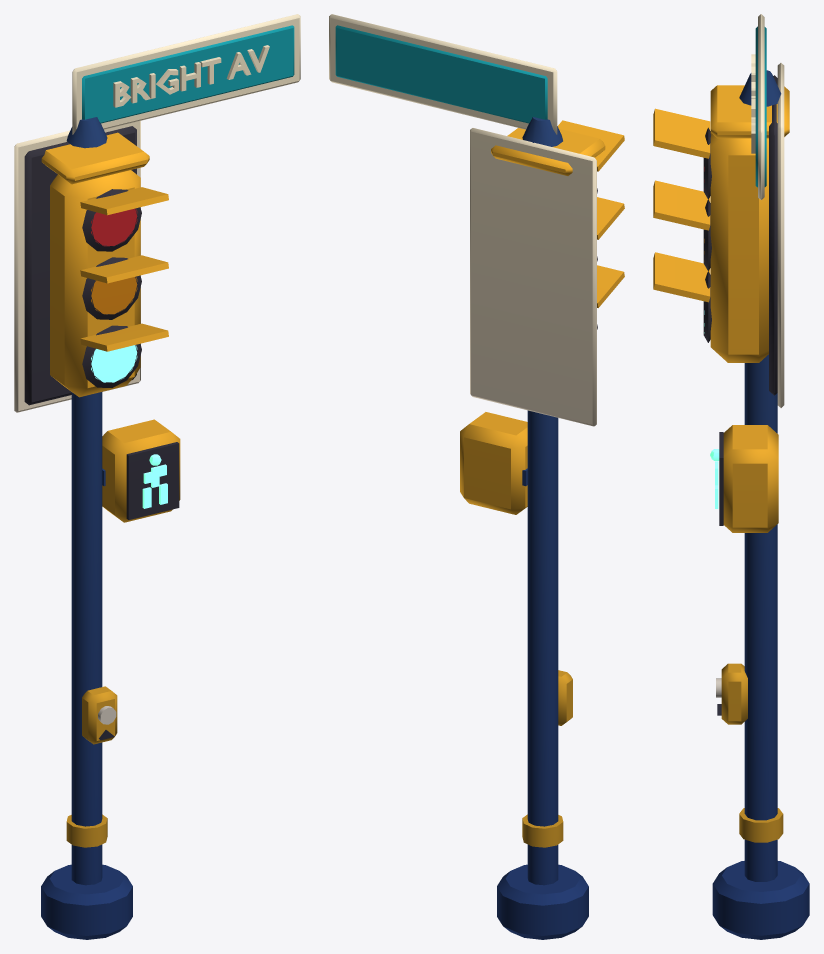
Rendered from traffic_light.glb.
3 renders of one model, left to right at view 1: azimuth 30°, elevation 25°; view 2: azimuth 150°, elevation 25°; view 3: azimuth 270°, elevation 25°, orthographic. The views are drawn at different scales.
Visible parts, largest first — view 1: traffic_light; view 2: traffic_light; view 3: traffic_light.
Boxes of the visible parts, left/top/right/bottom form: traffic_light: left=14, top=14, right=300, bottom=939; traffic_light: left=329, top=14, right=624, bottom=939; traffic_light: left=653, top=14, right=809, bottom=939.
Size of the model in its own units: 1.53 by 4.53 by 0.7098.
